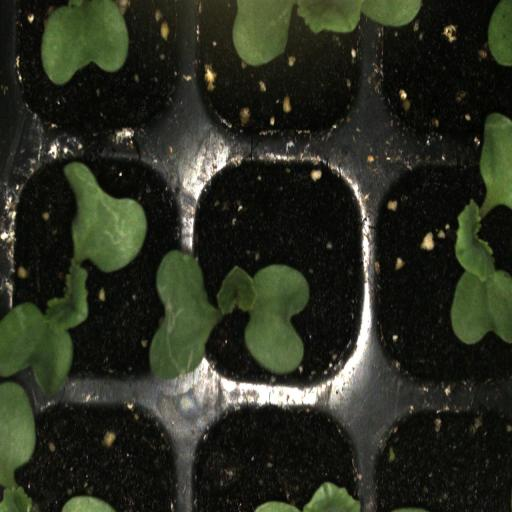seedling: (189, 139, 370, 397), (7, 139, 188, 396), (371, 138, 512, 397)
